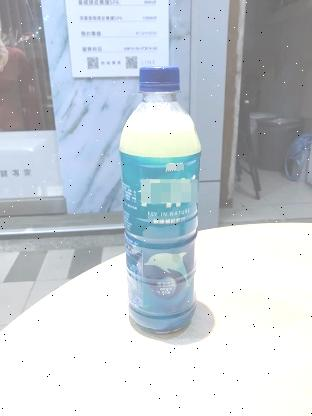Plastic Bottle: (120, 66, 201, 333)
